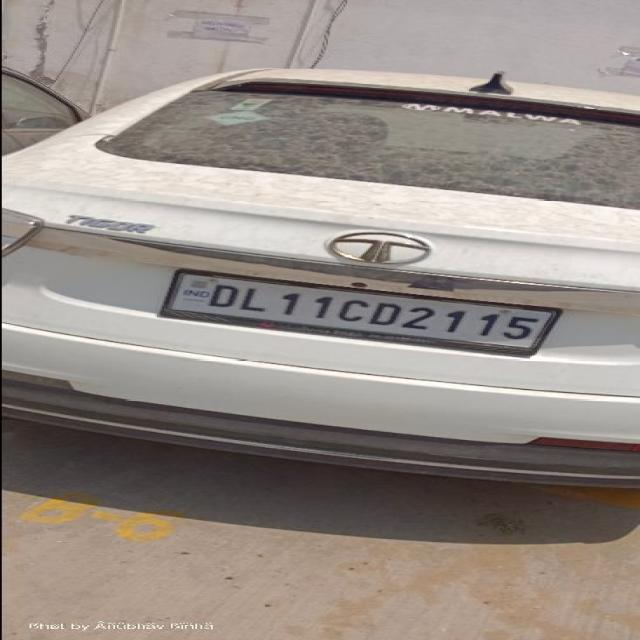license_plate: (157, 267, 563, 357)
